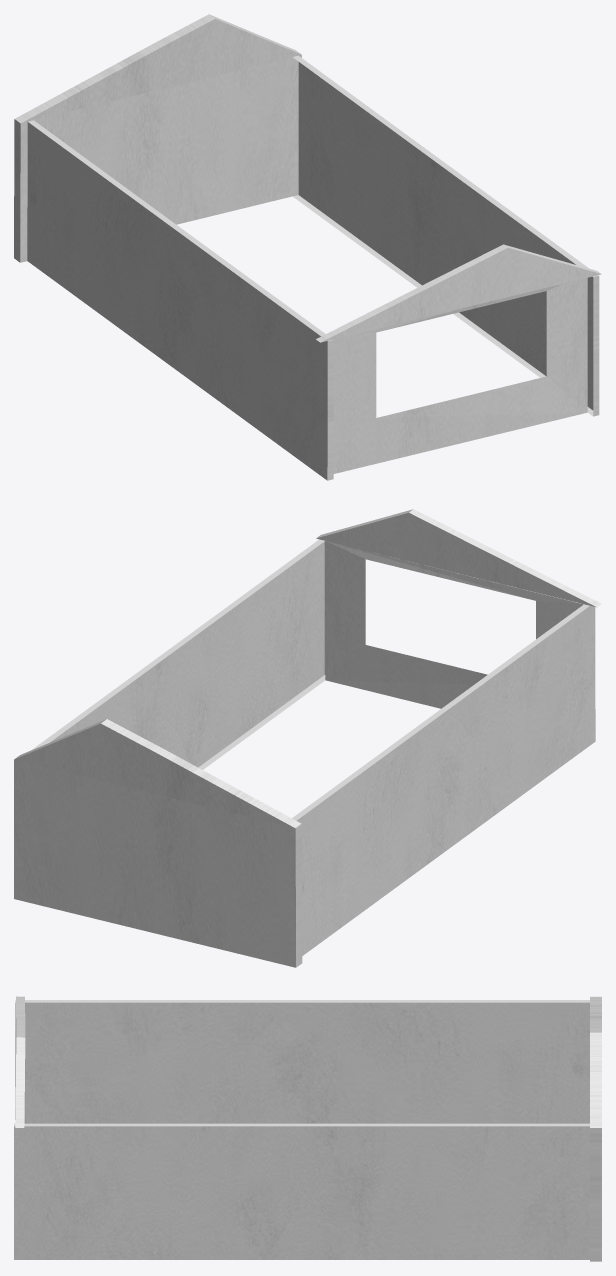
File: blan.obj
The picture shows the model from 3 angles, top to bottom: view 1: azimuth 30°, elevation 25°; view 2: azimuth 150°, elevation 25°; view 3: azimuth 270°, elevation 25°; orthographic projection. The views are drawn at different scales.
Parts seen in each view (by area): view 1: PisoInterior.001; view 2: PisoInterior.001; view 3: PisoInterior.001.
Boxes of the visible parts, box(x1,y1,x2,y2) form: PisoInterior.001: box(14, 14, 601, 480); PisoInterior.001: box(14, 509, 601, 967); PisoInterior.001: box(14, 996, 601, 1261).
Bounding box in the file's own units: 23.26 × 15.5 × 43.91.
1 material, 1 textured.
